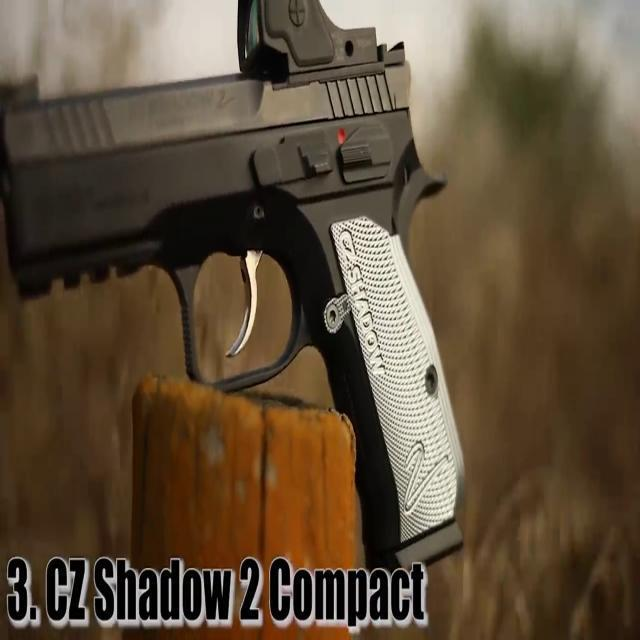Handgun: (2, 0, 490, 562)
